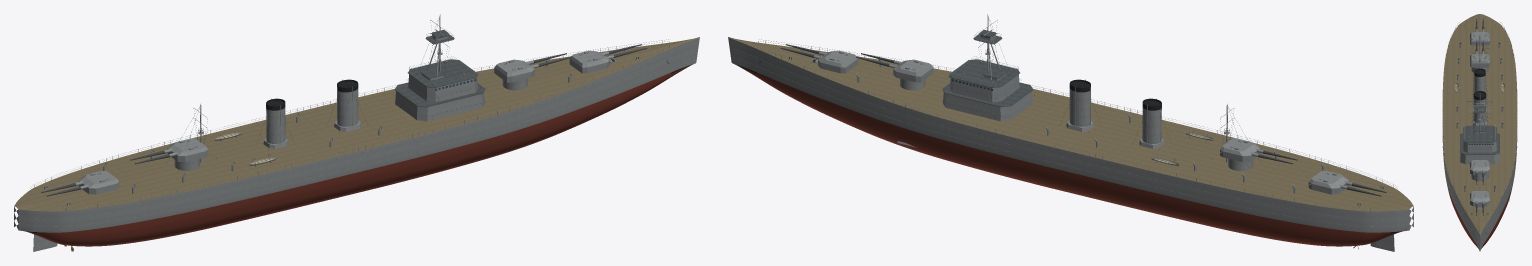
Rendered from fallback-bb.glb.
The picture shows the model from 3 angles, left to right: view 1: azimuth 30°, elevation 25°; view 2: azimuth 150°, elevation 25°; view 3: azimuth 270°, elevation 25°; orthographic projection. The views are drawn at different scales.
Visible parts, largest first — view 1: Original BB custom-design concept; view 2: Original BB custom-design concept; view 3: Original BB custom-design concept.
Part boxes in pixels (x1=…): Original BB custom-design concept: x1=14, y1=14, x2=699, y2=251; Original BB custom-design concept: x1=728, y1=14, x2=1413, y2=251; Original BB custom-design concept: x1=1442, y1=14, x2=1517, y2=251.
Size of the model in its own units: 206 by 40.59 by 29.09.
9 materials, 8 textured.
